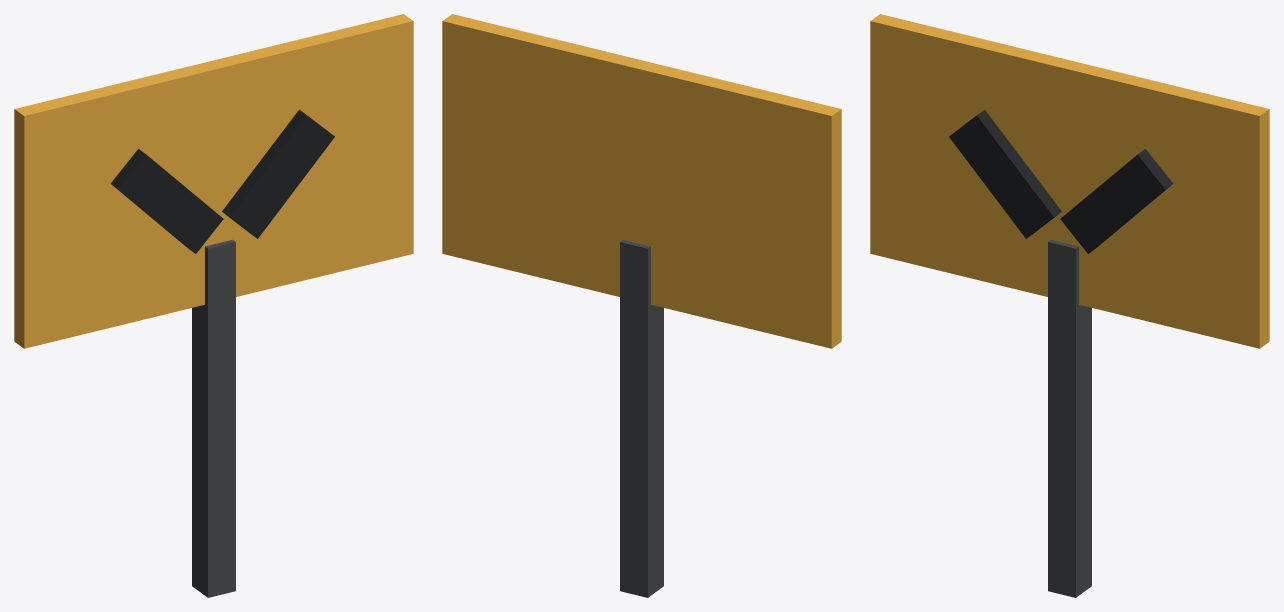
File: chevron-sign.glb
The picture shows the model from 3 angles, left to right: view 1: azimuth 30°, elevation 25°; view 2: azimuth 150°, elevation 25°; view 3: azimuth 330°, elevation 25°; orthographic projection.
Parts seen in each view (by area): view 1: chevron; view 2: chevron; view 3: chevron.
Boxes of the visible parts, x1,y1,x2,y2 form: chevron: (14,14,413,597); chevron: (442,14,841,597); chevron: (870,14,1269,597).
Size of the model in its own units: 1.4 by 1.8 by 0.1299.
